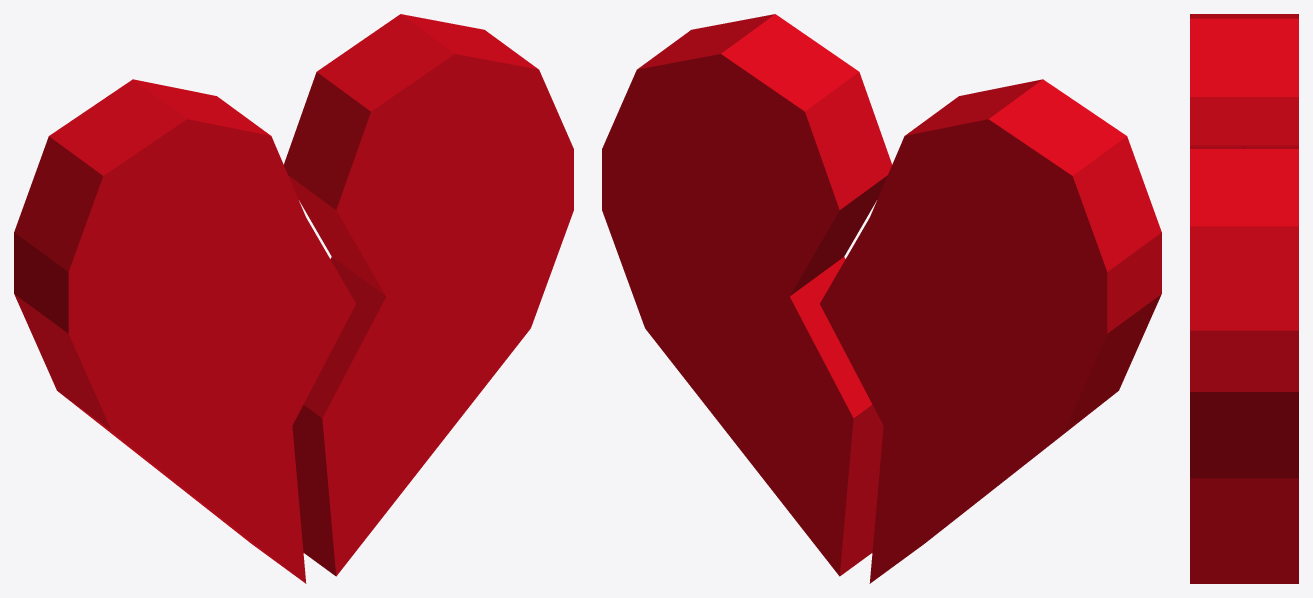
Rendered from BrokenHeart.fbx.
The picture shows the model from 3 angles, left to right: view 1: azimuth 30°, elevation 25°; view 2: azimuth 150°, elevation 25°; view 3: azimuth 270°, elevation 25°; orthographic projection.
Parts seen in each view (by area): view 1: BrokenHeart; view 2: BrokenHeart; view 3: BrokenHeart.
Boxes of the visible parts, x1,y1,x2,y2 form: BrokenHeart: (14,14,573,583); BrokenHeart: (602,14,1161,583); BrokenHeart: (1190,14,1298,583).
Size of the model in its own units: 1.07 by 0.998 by 0.1997.
